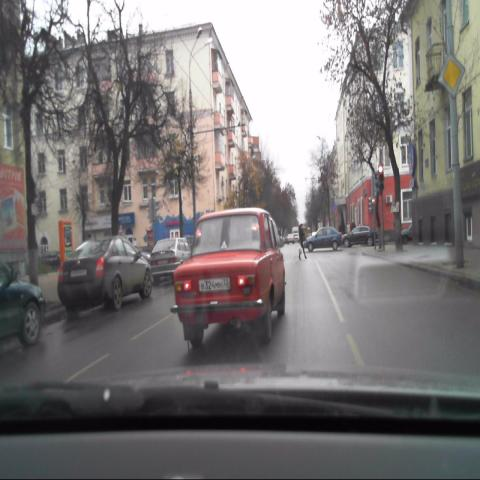2_1: (438, 53, 466, 100)
